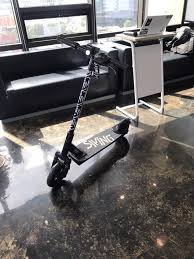kick_board: (47, 37, 129, 186)
kick_handler: (58, 35, 129, 69)
kick_wheel: (47, 163, 69, 187), (121, 118, 130, 136)
